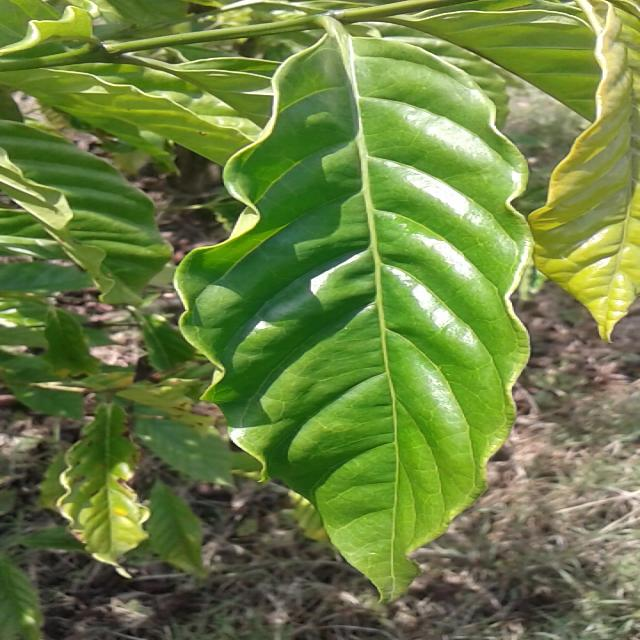Sanas: (175, 14, 532, 602)
